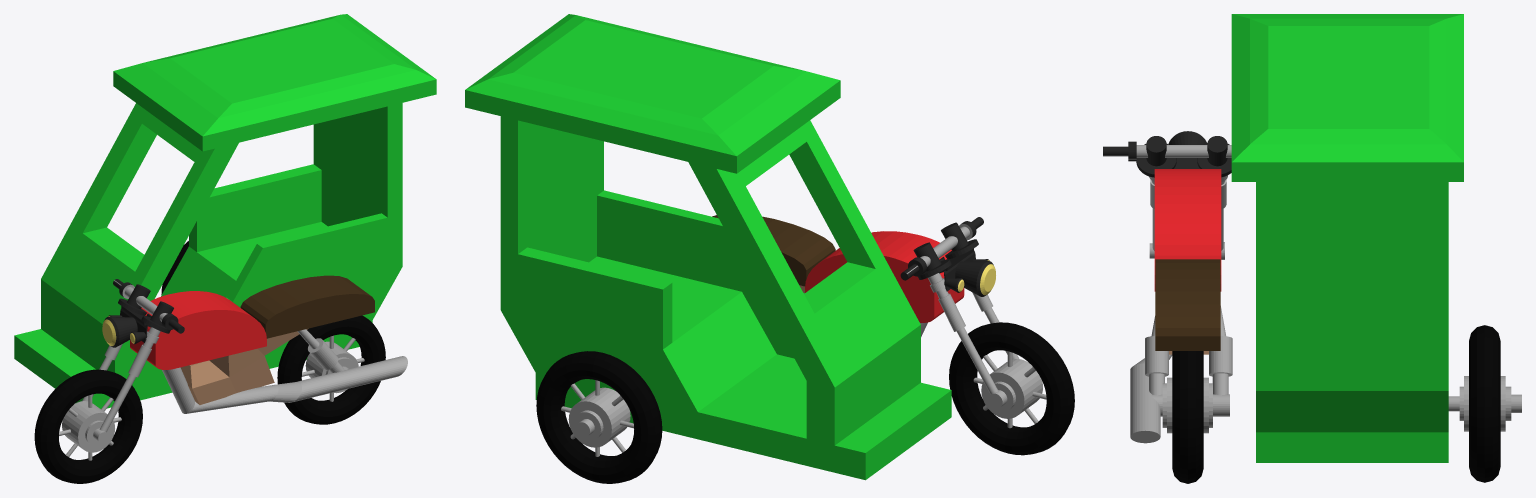
File: tricycls.fbx
3 views of the same model, side by side, from view 1: azimuth 30°, elevation 25°; view 2: azimuth 150°, elevation 25°; view 3: azimuth 270°, elevation 25° (orthographic). The views are drawn at different scales.
Visible parts, largest first — view 1: Cube.001; view 2: Cube.001; view 3: Cube.001.
Part boxes in pixels (bbox=[...]): Cube.001: bbox=[14, 14, 436, 483]; Cube.001: bbox=[465, 14, 1074, 483]; Cube.001: bbox=[1103, 14, 1521, 483].
Bounding box in the file's own units: 1474 × 1057 × 985.
